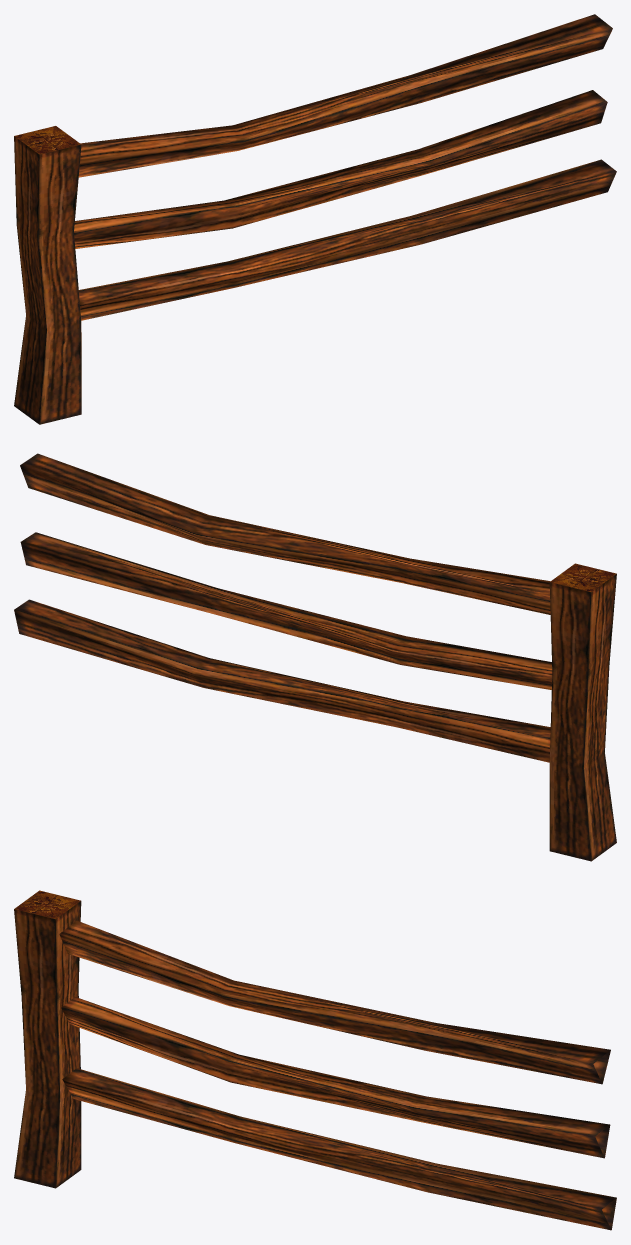
Rendered from INST_HTOWN_FENCEBRN00DEG.fbx.
3 renders of one model, top to bottom at view 1: azimuth 30°, elevation 25°; view 2: azimuth 150°, elevation 25°; view 3: azimuth 330°, elevation 25°, orthographic.
Parts seen in each view (by area): view 1: INST_HTOWN_FENCEBRN00DEG; view 2: INST_HTOWN_FENCEBRN00DEG; view 3: INST_HTOWN_FENCEBRN00DEG.
Boxes of the visible parts, x1=… form: INST_HTOWN_FENCEBRN00DEG: x1=14, y1=14, x2=616, y2=424; INST_HTOWN_FENCEBRN00DEG: x1=14, y1=453, x2=616, y2=861; INST_HTOWN_FENCEBRN00DEG: x1=14, y1=890, x2=616, y2=1230.
Size of the model in its own units: 30236 by 13360 by 2372.
2 materials, 2 textured.
